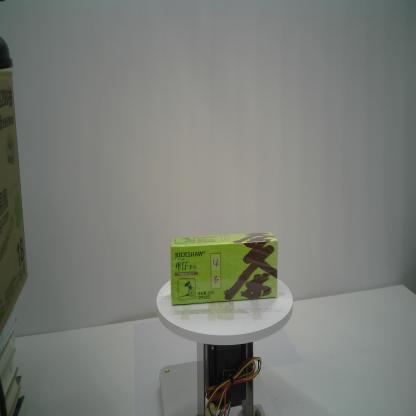Instant Drink: (170, 229, 279, 307)
